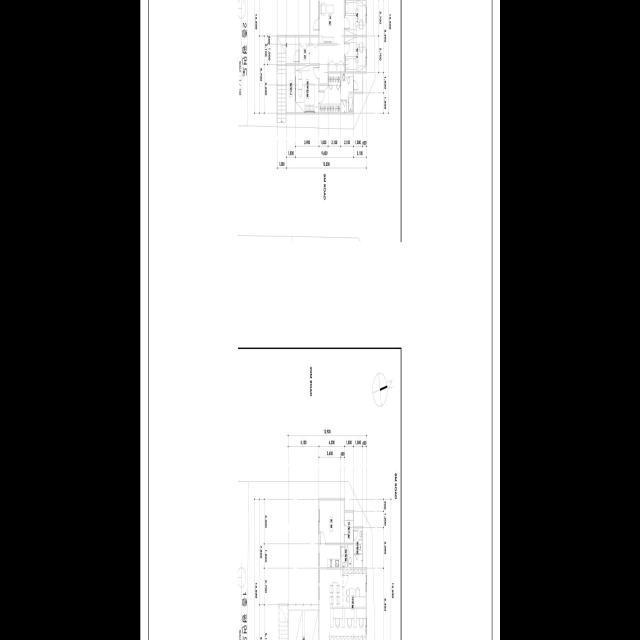background: (140, 0, 500, 640)
space_balconi: (286, 66, 295, 112), (310, 0, 318, 35)
space_bedroom: (319, 500, 344, 543), (295, 66, 318, 112), (345, 37, 365, 72), (345, 1, 365, 35)
space_dressroom: (319, 74, 340, 112), (345, 512, 353, 543)
space_front: (299, 37, 319, 64)
space_kitchen: (319, 545, 340, 567)
space_living_room: (319, 0, 344, 84)
space_other: (319, 569, 365, 640), (286, 37, 298, 64), (354, 74, 362, 92)
space_staircase: (277, 37, 286, 122)
space_toilet: (341, 74, 353, 112), (354, 529, 362, 554), (347, 545, 353, 567), (341, 545, 347, 567), (354, 554, 362, 567)
